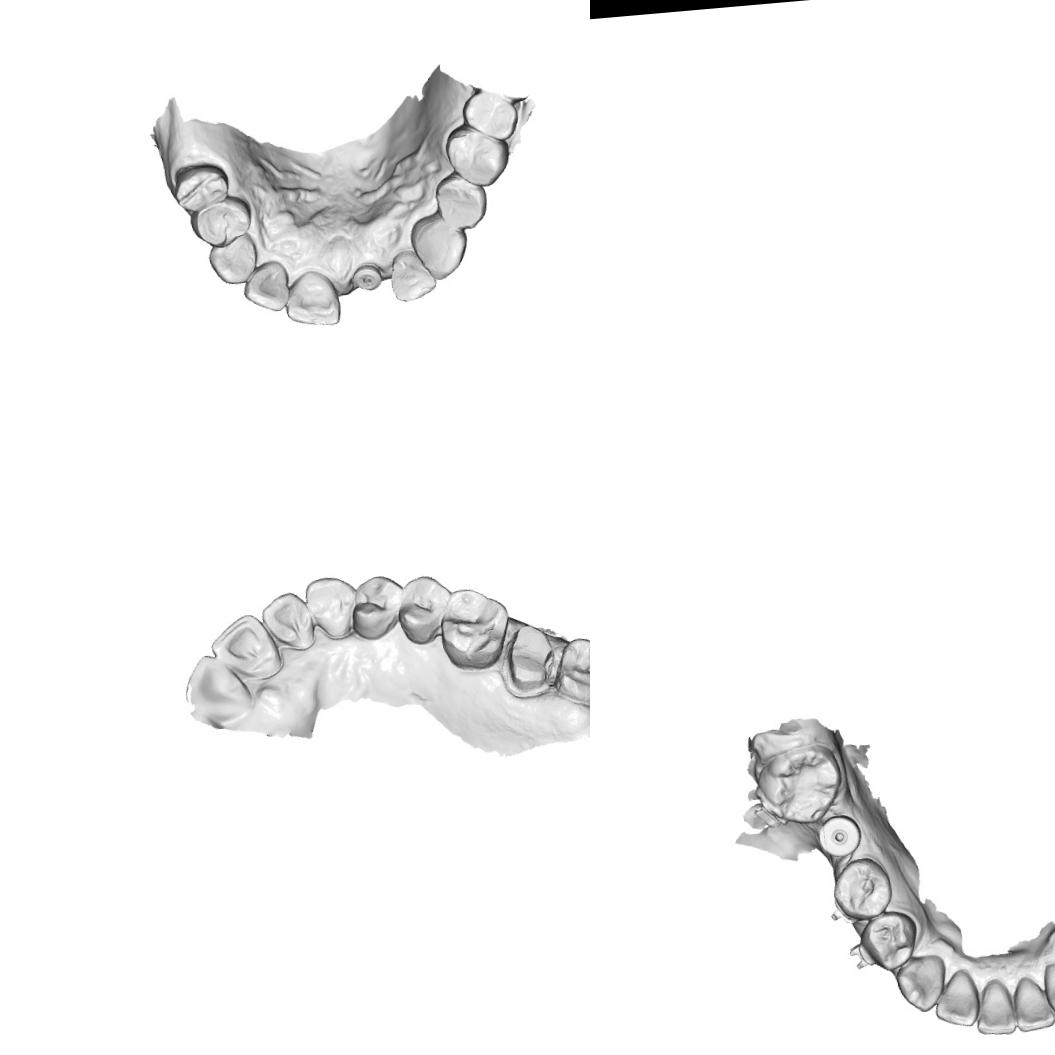canine: (302, 573, 362, 643), (410, 216, 472, 282), (892, 951, 951, 1014), (204, 232, 260, 288)
crown: (495, 618, 561, 700)
implant: (814, 813, 861, 856)
implant_minus: (348, 260, 385, 294)
incisor: (206, 608, 284, 684), (281, 266, 342, 329), (258, 588, 316, 653), (239, 257, 292, 315), (386, 247, 438, 304), (929, 970, 979, 1028), (969, 979, 1018, 1037), (1009, 973, 1055, 1034), (1039, 957, 1055, 1019)
molar: (754, 742, 844, 825), (435, 584, 514, 674), (458, 87, 520, 144), (549, 633, 590, 709)
premolar: (442, 122, 514, 192), (393, 570, 454, 647), (856, 907, 923, 975), (828, 856, 896, 921), (348, 572, 404, 643), (430, 168, 490, 233), (187, 194, 254, 250), (170, 158, 232, 213)
